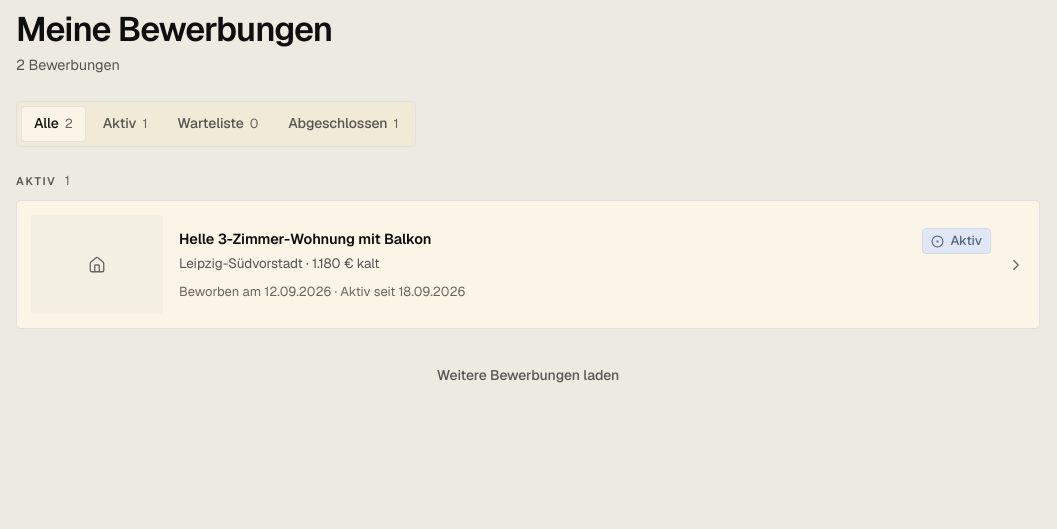
Test case: ApplicationsOverview › loads the next backend page with the returned cursor
Click the button "Weitere Bewerbungen laden". click: (528, 375)
box: [419,353,637,397]
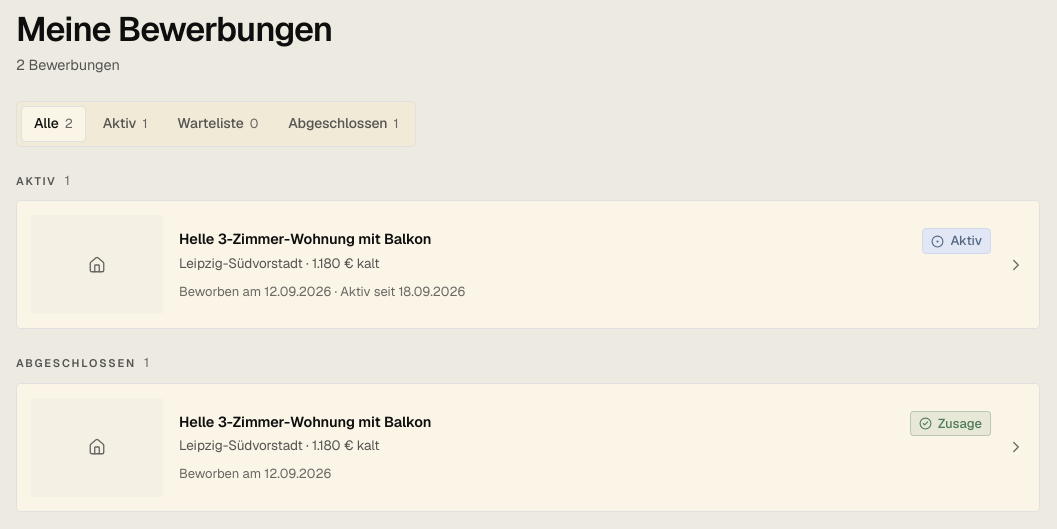
Result: the element "Abgeschlossen" is shown at [16,353,1040,512]
Result: the number of links is 2 at [16,200,1040,329]; [16,383,1040,512]
Result: the button "Weitere Bewerbungen laden" is gone
